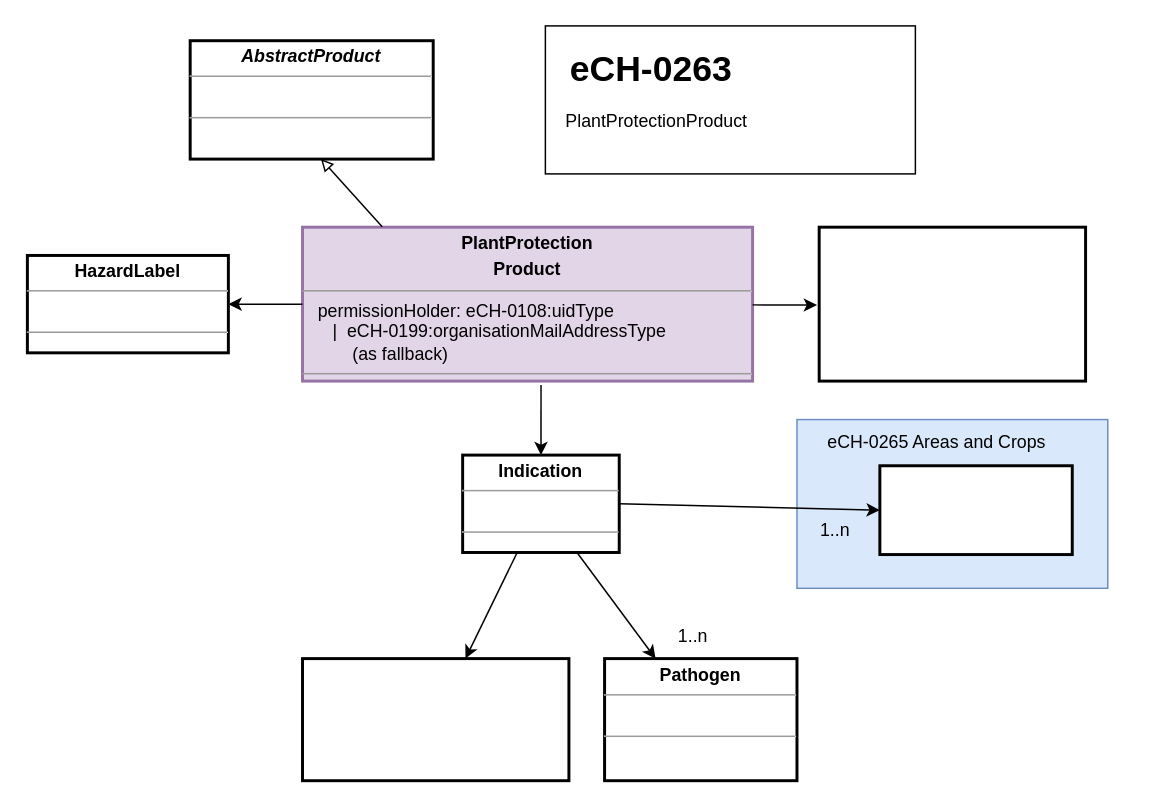
Some shapes in this 1151 by 808 pixel diagram are drawn without their labels. The shapes that lost their labels are listed below. From the top down, each one's centre as x and y in pixels, then its label:
At point (951, 303): "PlantProtection ProductCategory item: EnumeratedItem".
At point (975, 509): "BotanicalPlant".
At point (435, 718): "Admission Type".
